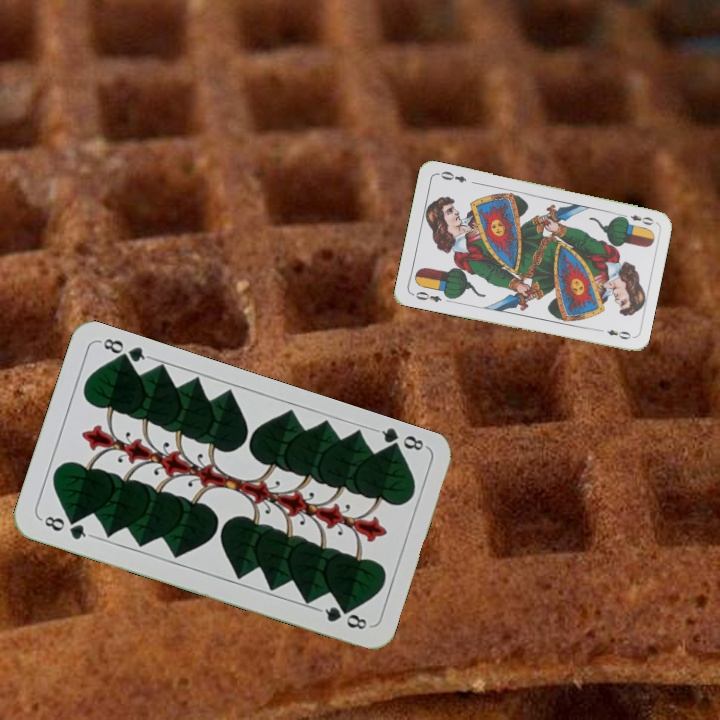EO: (617, 210, 657, 228), (408, 287, 444, 305)
G8: (371, 424, 429, 457), (37, 512, 95, 543)
